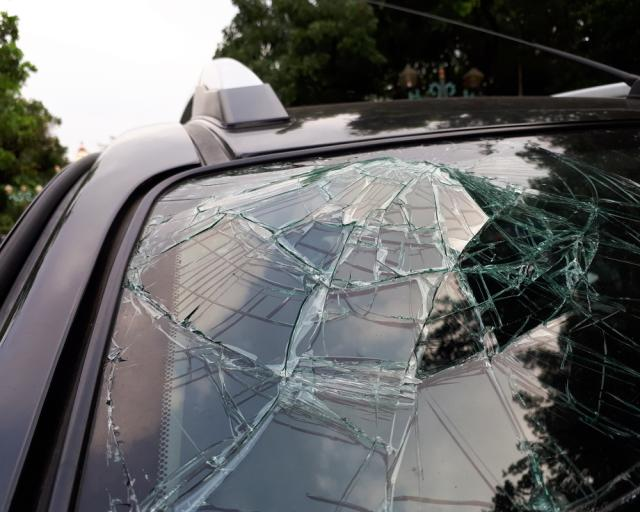glass shatter: (72, 123, 640, 512)
